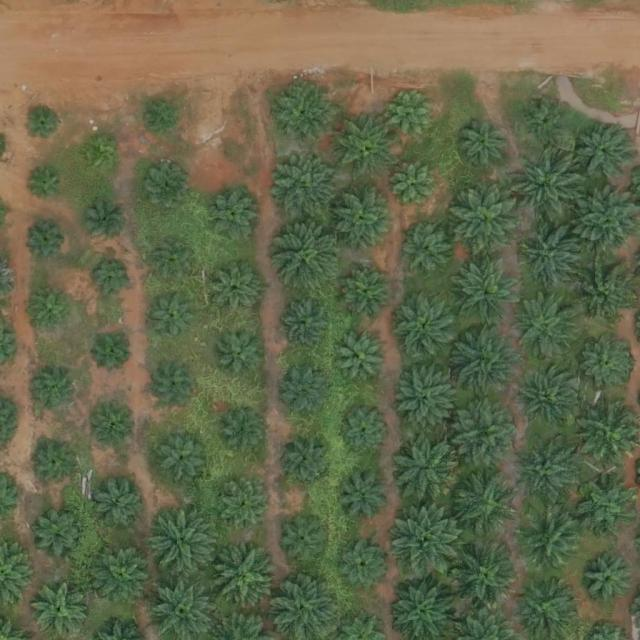Healthy: (514, 143, 592, 221), (455, 257, 526, 328), (273, 154, 343, 225), (277, 221, 347, 292), (452, 183, 523, 253), (452, 325, 522, 396), (452, 400, 522, 471), (454, 543, 524, 614), (391, 436, 461, 507), (390, 506, 460, 577), (207, 544, 277, 615), (146, 507, 217, 577), (514, 505, 584, 575), (395, 294, 458, 357), (397, 365, 460, 428), (274, 83, 336, 146), (335, 115, 397, 178), (523, 224, 585, 287), (517, 296, 579, 359), (517, 372, 579, 435), (578, 191, 640, 254), (573, 263, 635, 326), (93, 544, 155, 607), (335, 190, 397, 252), (519, 441, 581, 503), (454, 473, 516, 535), (158, 433, 213, 488), (579, 127, 634, 182), (579, 336, 634, 391), (338, 536, 393, 591), (218, 478, 273, 533), (31, 506, 86, 561), (33, 585, 88, 640), (458, 118, 512, 173), (581, 554, 635, 609), (90, 477, 144, 532), (284, 371, 331, 419), (343, 270, 390, 318), (340, 335, 387, 383), (407, 228, 454, 276), (211, 192, 258, 239), (286, 300, 333, 347), (281, 518, 328, 565)
Small: (388, 89, 442, 144), (336, 471, 390, 526), (340, 405, 394, 460), (283, 433, 337, 488), (142, 166, 189, 214), (391, 162, 438, 209), (152, 235, 199, 282), (34, 442, 81, 489), (26, 370, 73, 417), (152, 364, 199, 411), (217, 409, 264, 456), (219, 329, 266, 376), (152, 292, 199, 339), (214, 267, 261, 314), (82, 201, 129, 248), (91, 257, 138, 304), (89, 329, 136, 376), (91, 406, 138, 453), (32, 290, 72, 330), (80, 137, 120, 177), (529, 103, 568, 143), (24, 104, 63, 144), (138, 98, 177, 138), (27, 167, 66, 206), (27, 221, 66, 260)
